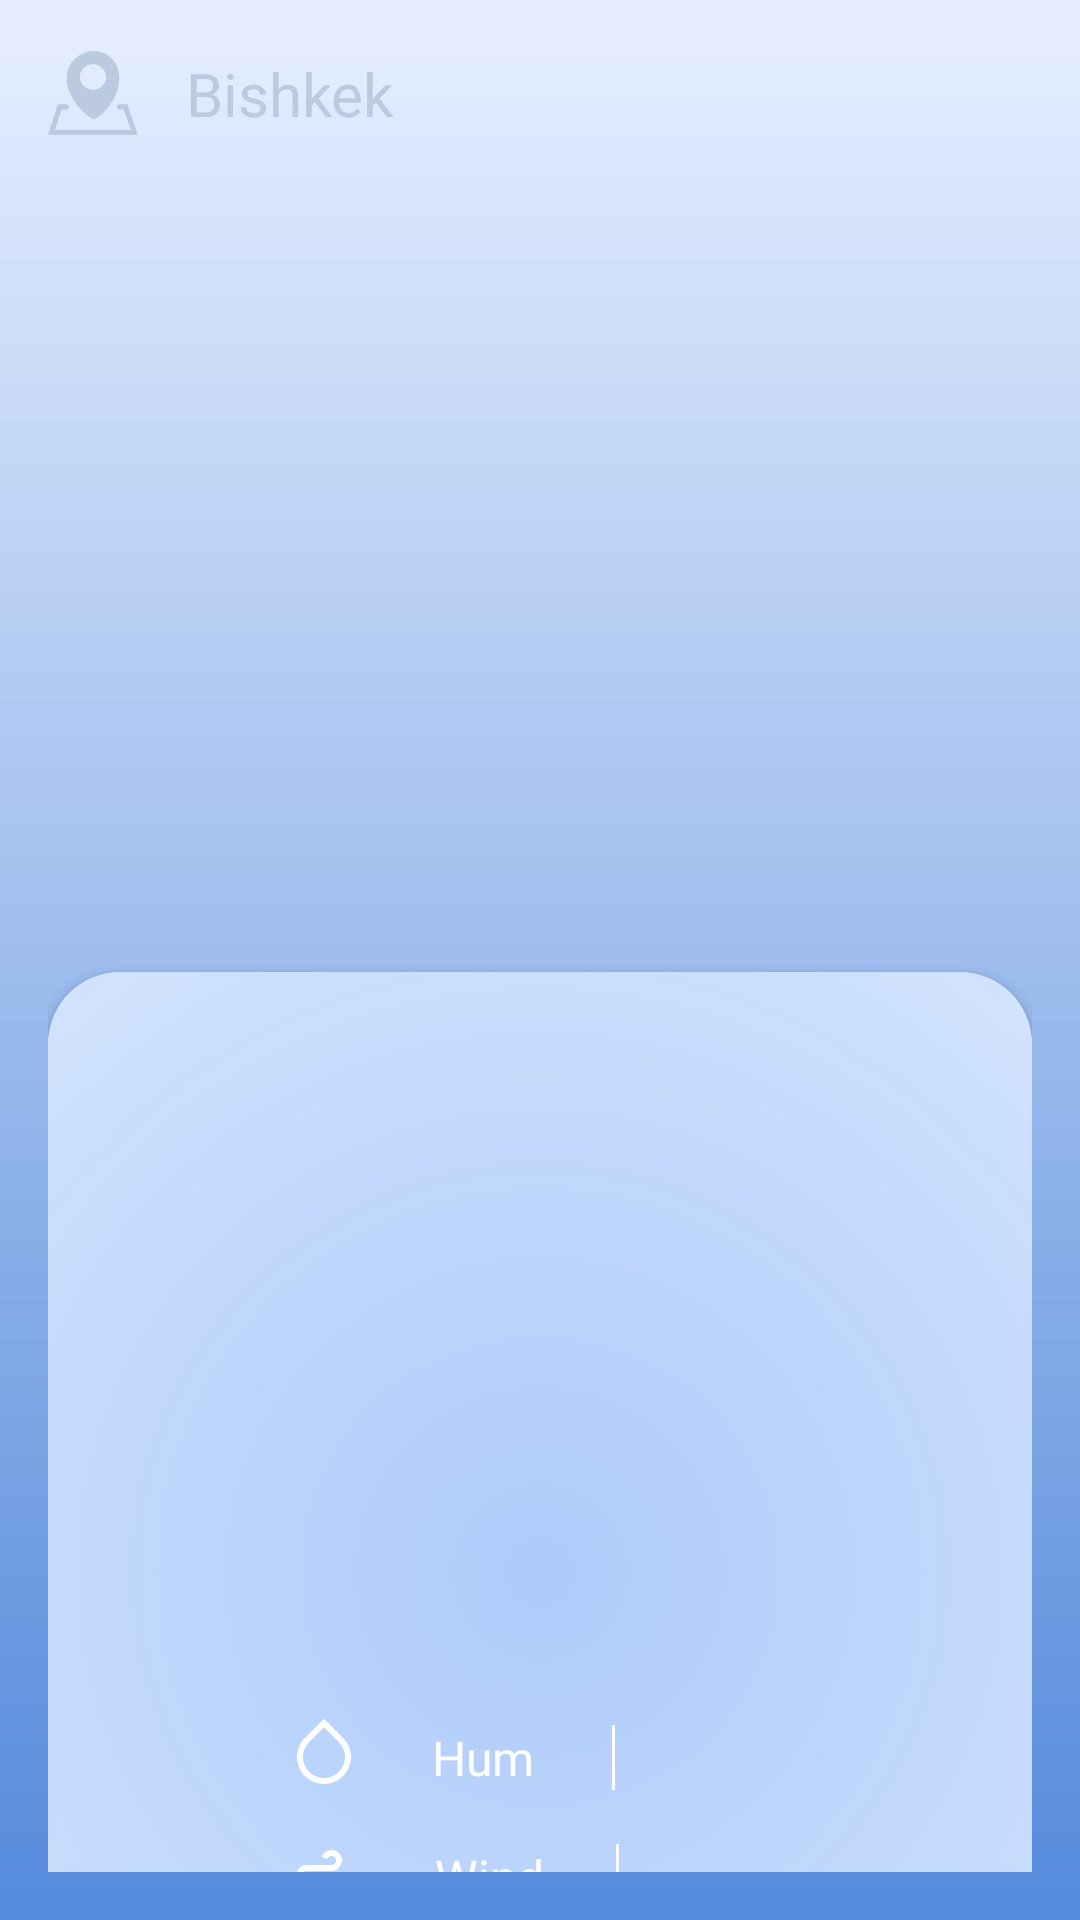

Screen size 1080*1920. Icon name, then its center in pixels as [x,y]:
address location: [93,93]
